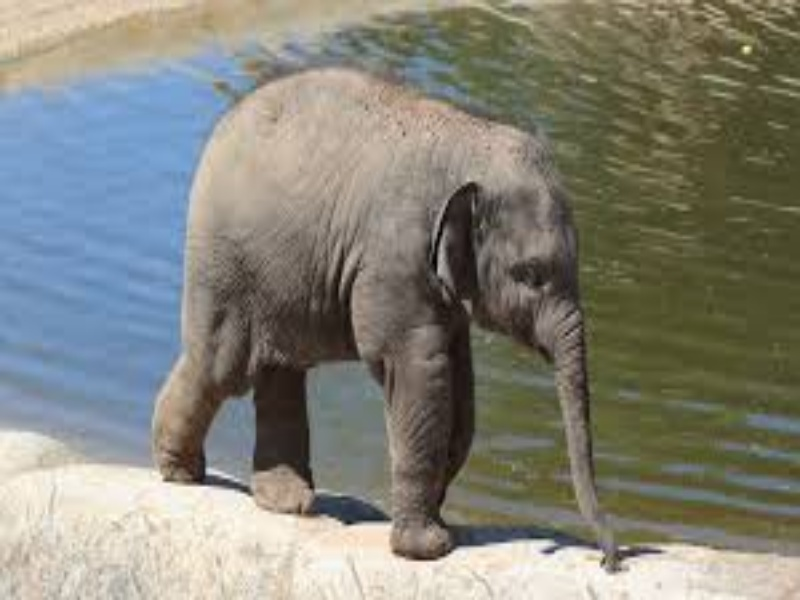elephant: (157, 65, 643, 580)
